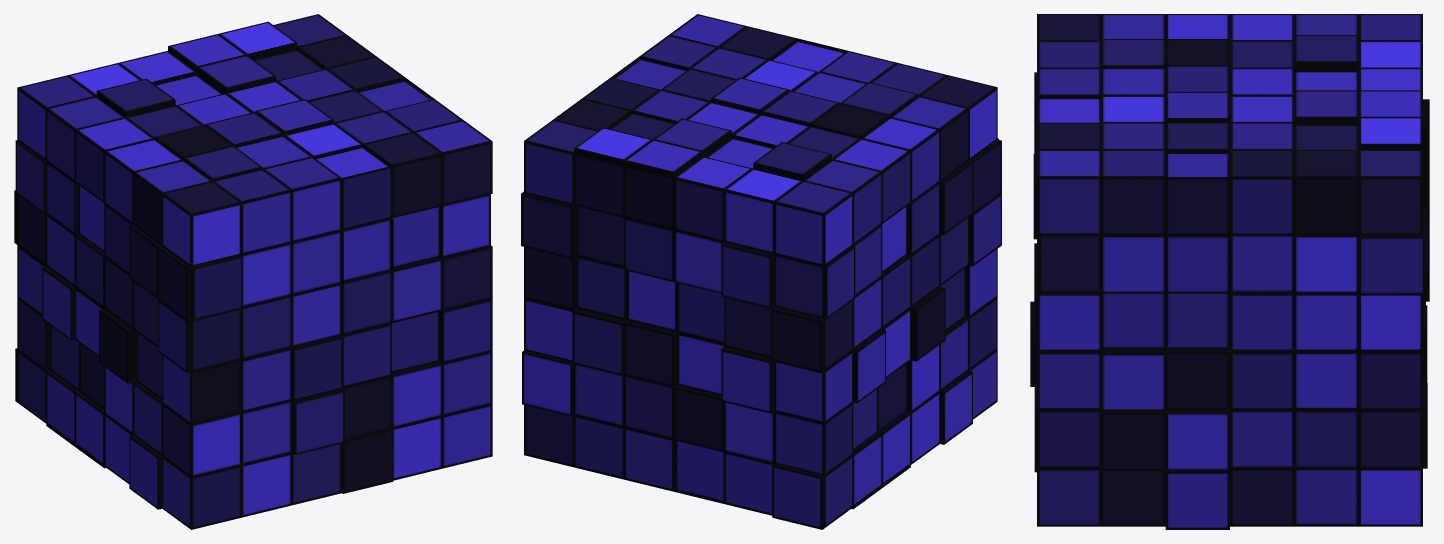
File: c_bricks.glb
The picture shows the model from 3 angles, left to right: view 1: azimuth 30°, elevation 25°; view 2: azimuth 150°, elevation 25°; view 3: azimuth 270°, elevation 25°; orthographic projection. The views are drawn at different scales.
Visible parts, largest first — view 1: C_Bricks; view 2: C_Bricks; view 3: C_Bricks.
Part boxes in pixels (x1,y1,x2,y2): C_Bricks: [14, 14, 492, 529]; C_Bricks: [521, 14, 1001, 529]; C_Bricks: [1030, 14, 1429, 529].
Size of the model in its own units: 2.08 by 2.07 by 2.07.
1 material, 1 textured.
